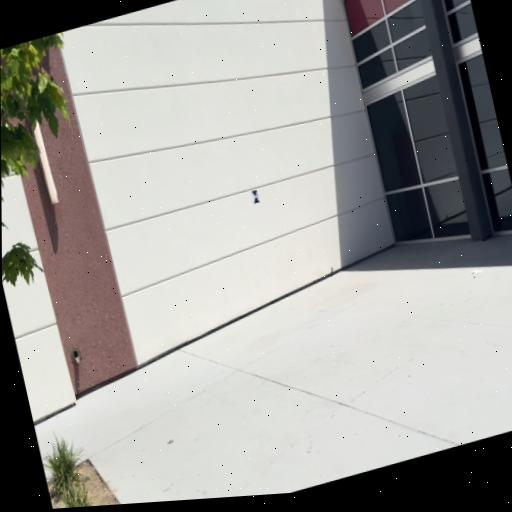target7: (251, 189, 260, 203)
